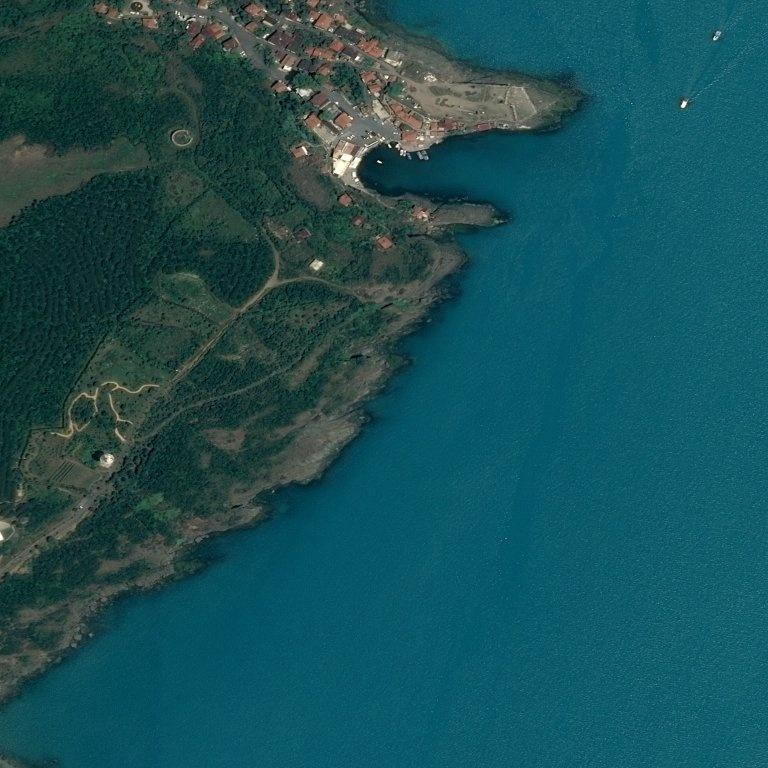ship: (679, 96, 690, 111), (0, 149, 9, 163), (713, 30, 721, 44), (32, 150, 39, 161), (23, 152, 30, 162), (375, 159, 385, 166), (19, 150, 24, 159), (10, 143, 16, 150), (3, 143, 9, 150), (15, 149, 20, 157)
